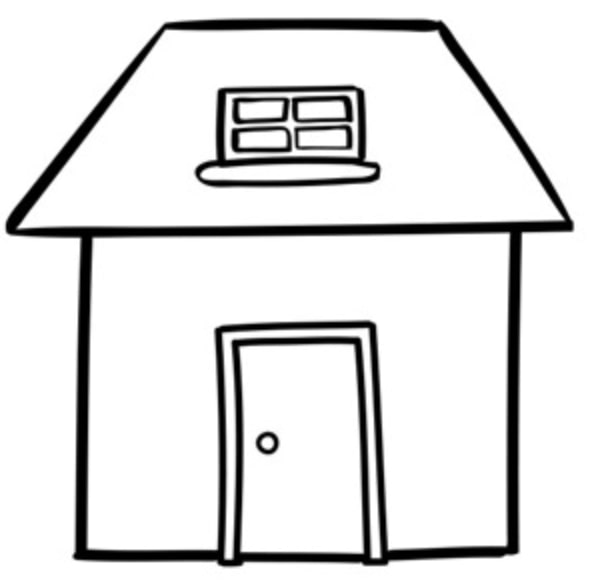House: (6, 9, 578, 565)
